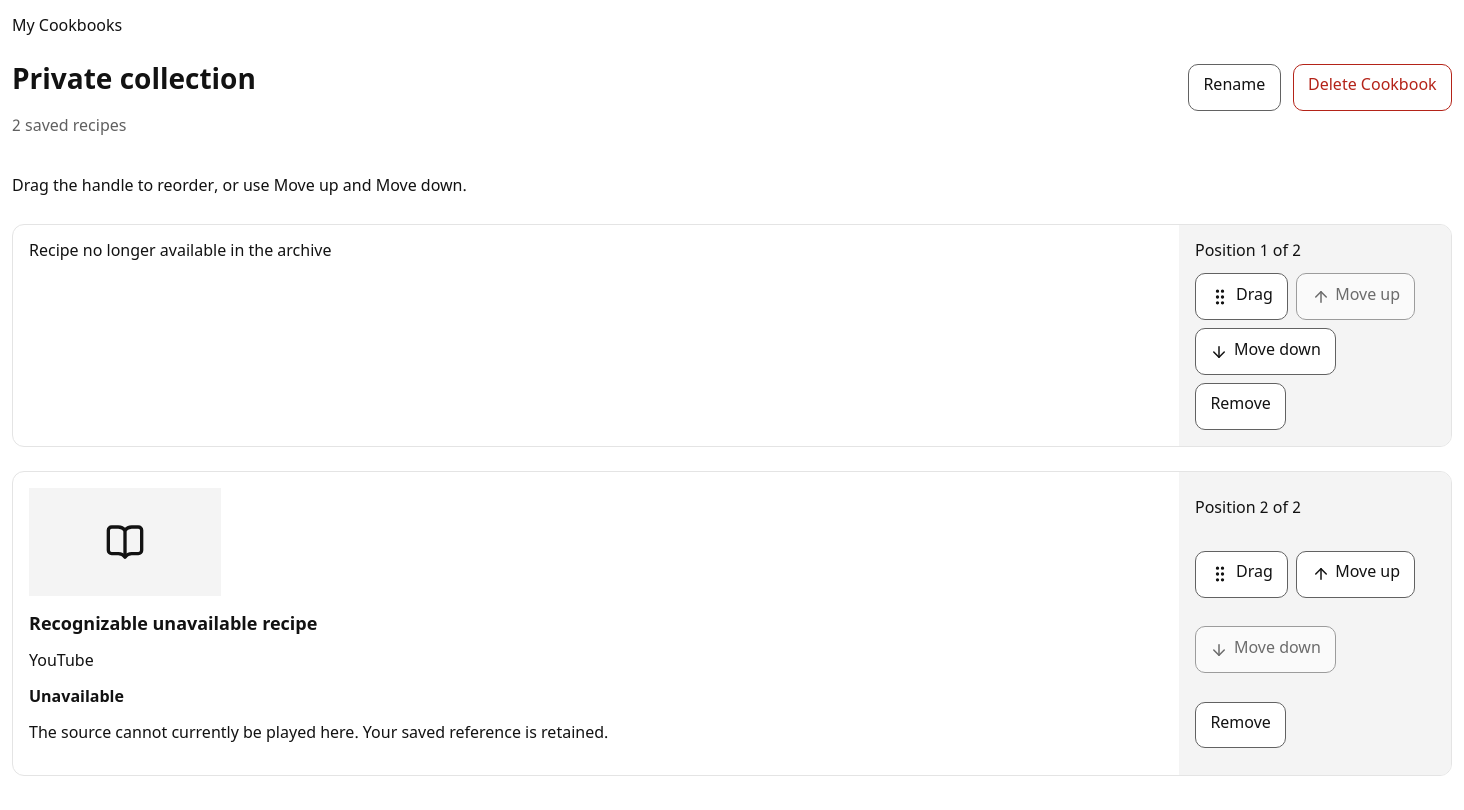
Test: reorders using buttons and reconciles a failed or conflicting order
Click the button with aria-label "Move down recipe at position 1": (1266, 352) [1195,328,1336,375]
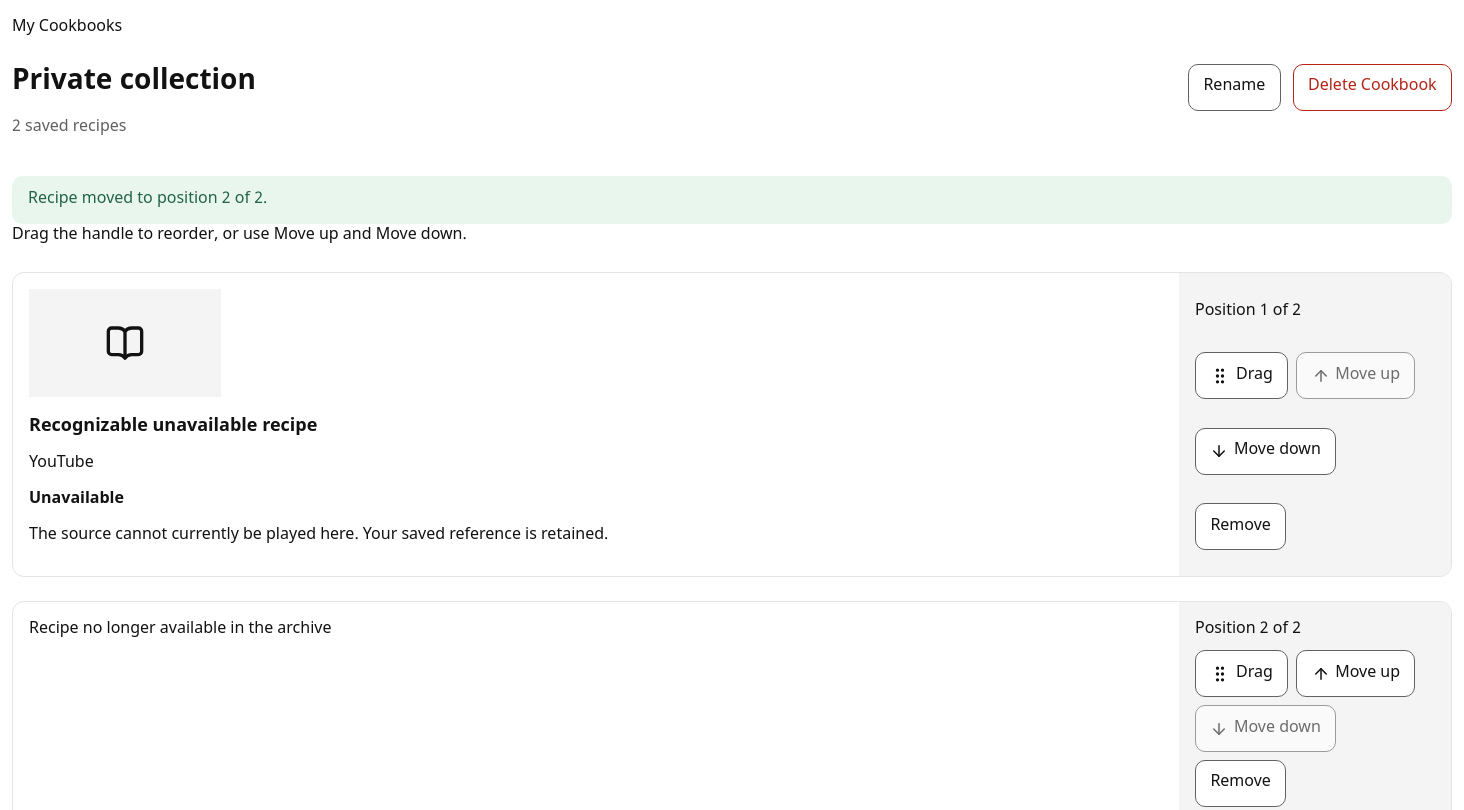
Now the text "Recipe moved to position 2 of 2." is shown, box [12,176,1452,224]
Click the button with aria-label "Move down recipe at position 1": (1266, 451) [1195,428,1336,475]
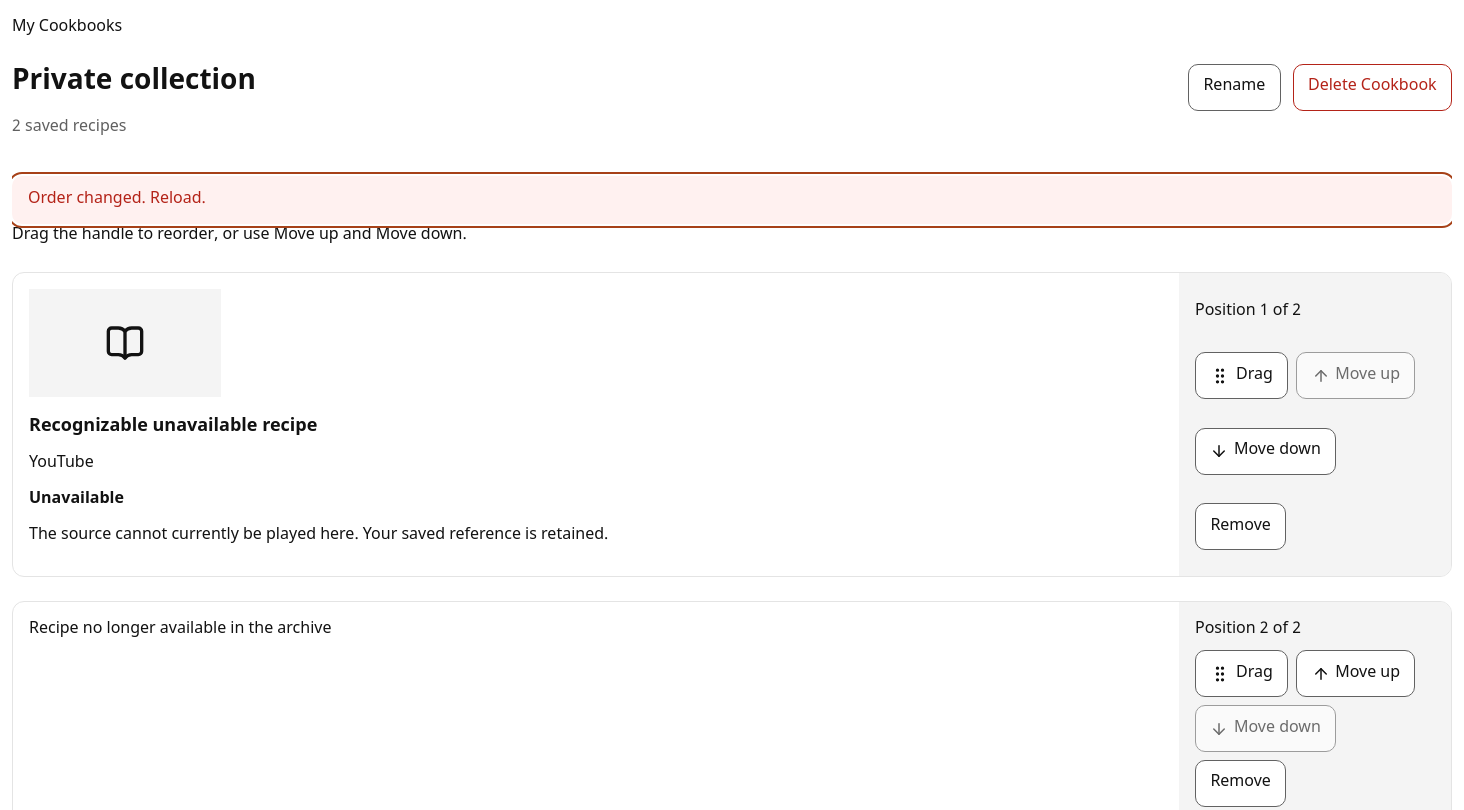
Now the message reads "Order changed. Reload.", box [28,189,206,210]
